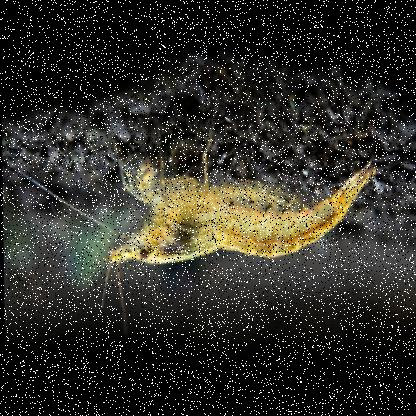shrimp: (104, 130, 378, 283)
